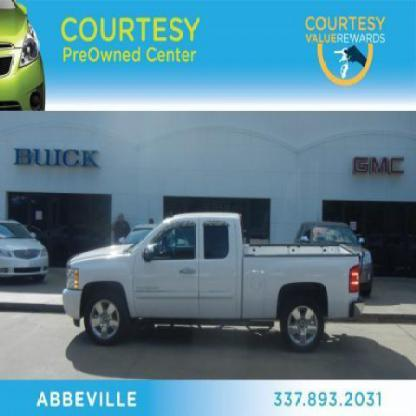Vehicle: (62, 211, 374, 356)
